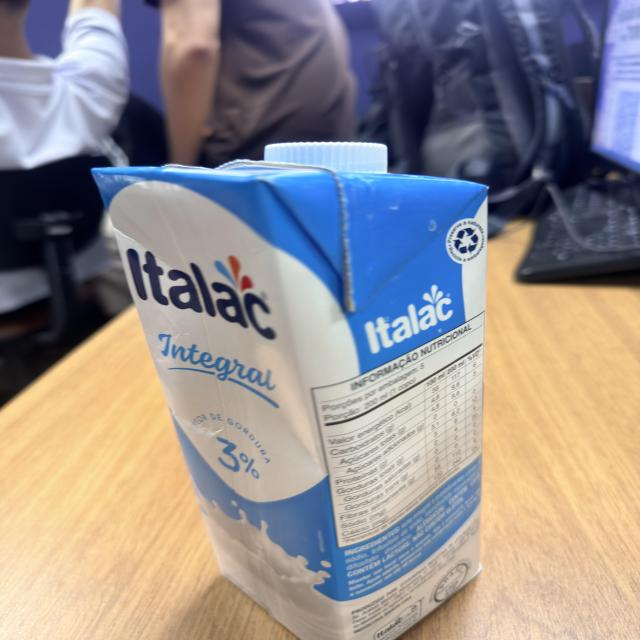Caixa de Leite: (87, 138, 486, 640)
